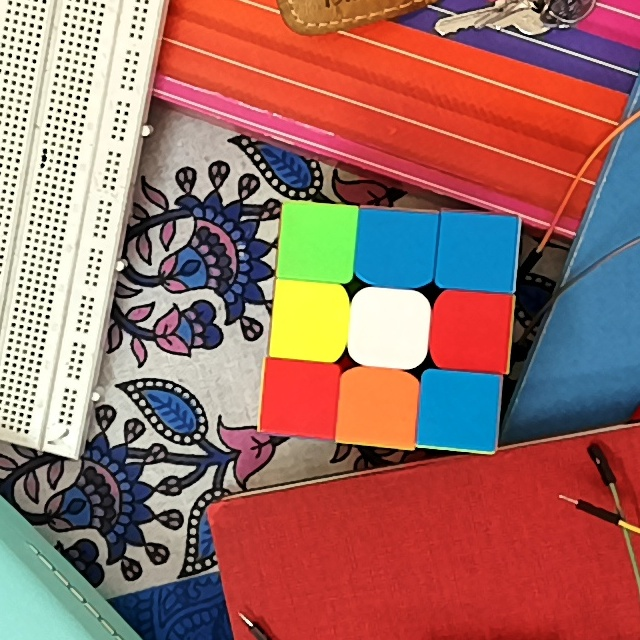tile: (428, 377, 495, 444), (440, 298, 506, 363), (343, 377, 412, 439), (446, 219, 510, 284), (283, 210, 349, 273), (266, 366, 332, 429), (364, 215, 429, 278), (281, 285, 341, 350), (360, 298, 418, 358)
